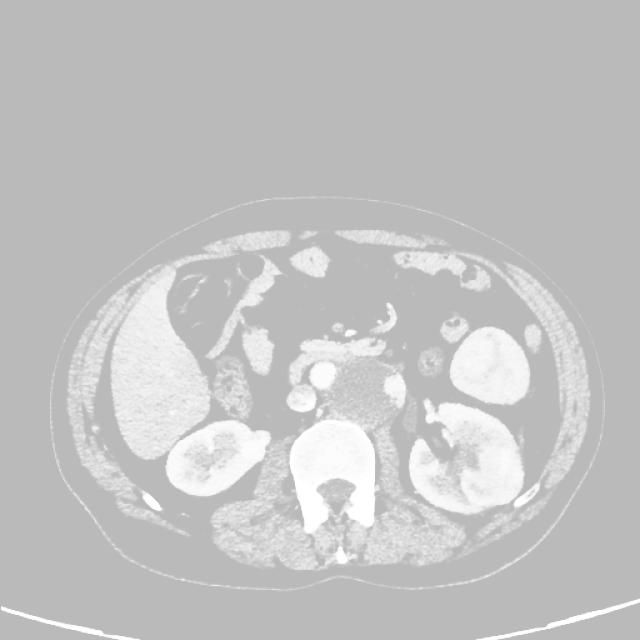TUMOR: (55, 258, 572, 516)
